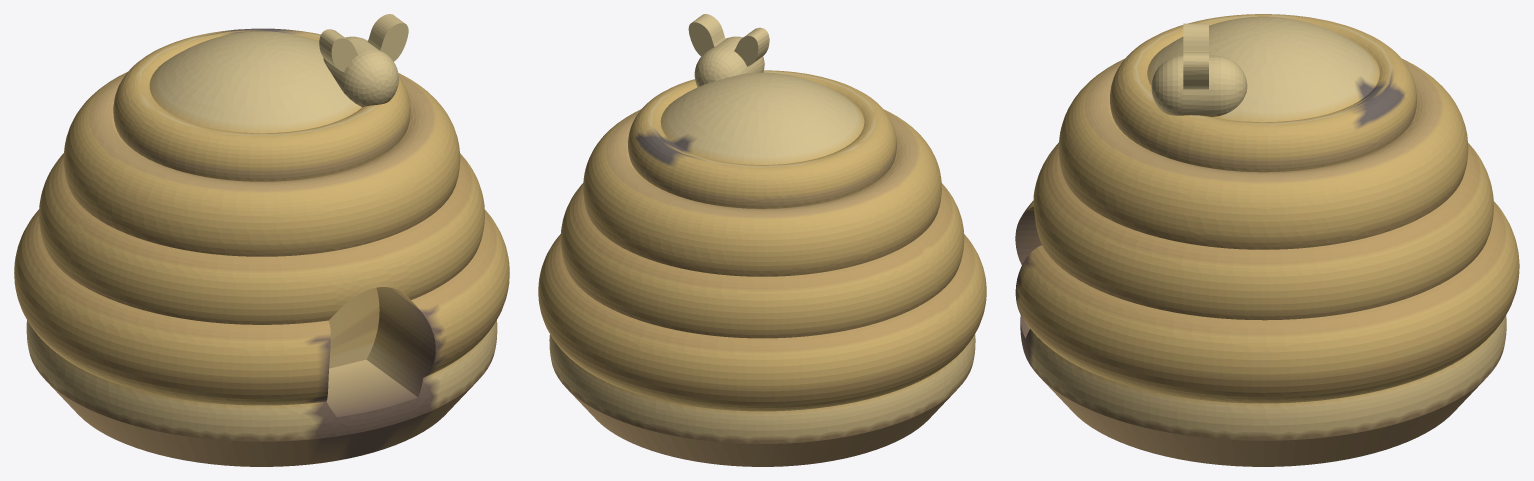
Rendered from hive_detailed.glb.
3 renders of one model, left to right at view 1: azimuth 30°, elevation 25°; view 2: azimuth 150°, elevation 25°; view 3: azimuth 270°, elevation 25°, orthographic. The views are drawn at different scales.
Visible parts, largest first — view 1: Beehive_Skep; view 2: Beehive_Skep; view 3: Beehive_Skep.
Part boxes in pixels (bbox=[...]): Beehive_Skep: bbox=[14, 14, 509, 466]; Beehive_Skep: bbox=[538, 14, 986, 466]; Beehive_Skep: bbox=[1015, 14, 1519, 466].
Bounding box in the file's own units: 0.688 × 0.5575 × 0.6773.
